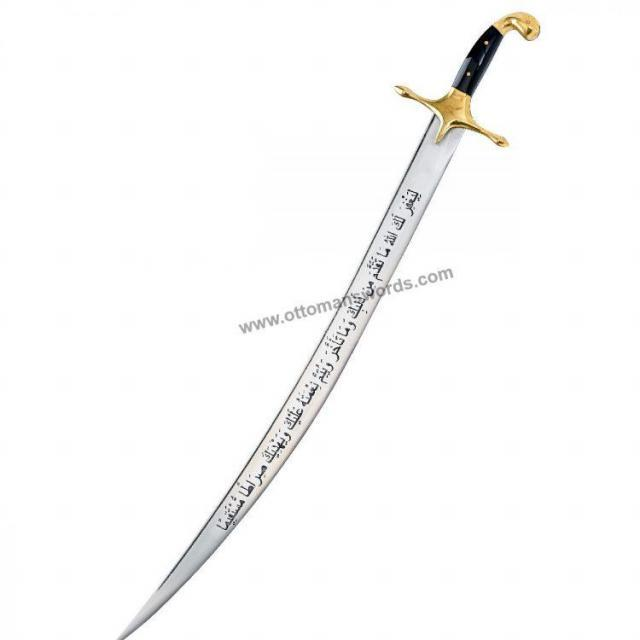cutlass: (90, 8, 565, 640)
